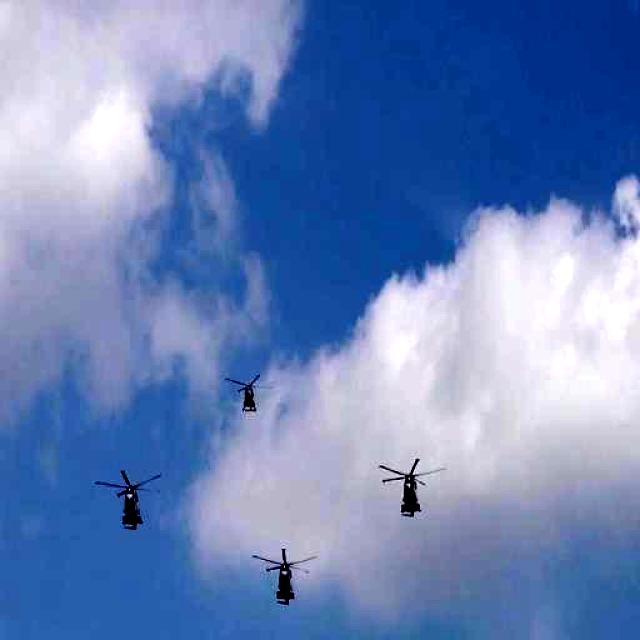drone: (375, 446, 429, 525), (105, 462, 160, 536), (258, 542, 318, 608), (226, 371, 265, 422)
